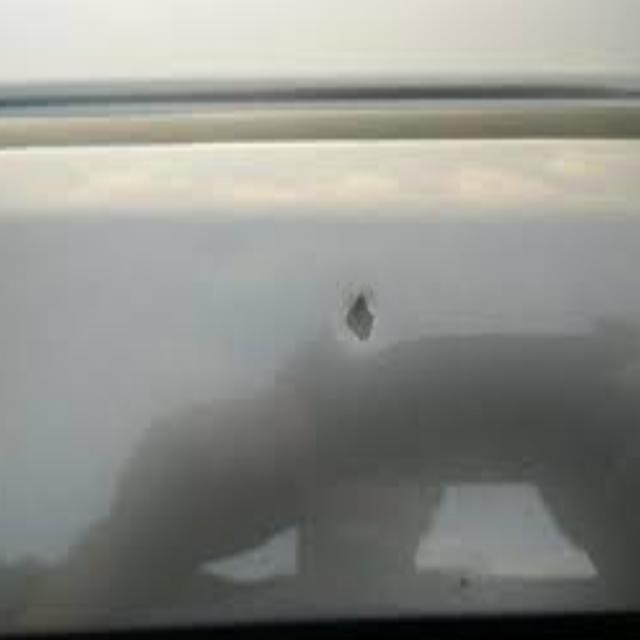dents: (316, 264, 397, 367)
